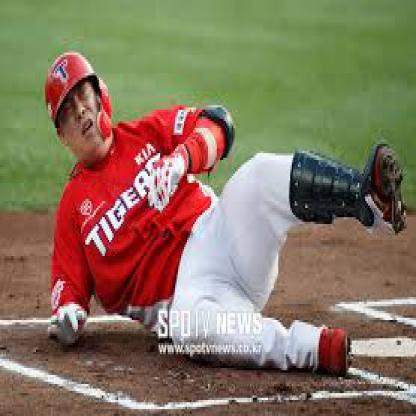Fall_Down: (45, 53, 408, 382)
